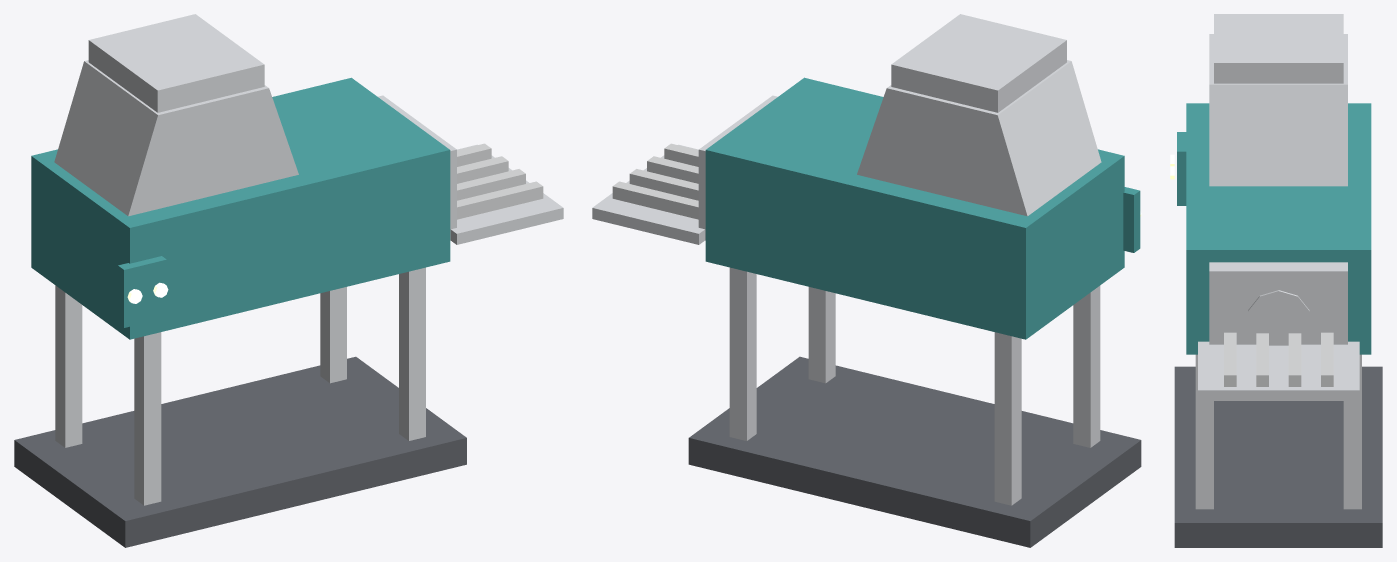
The model's file is chocolate-and-confectionery-factory-marshmallow-extrud-be0b4c50__36779.glb.
3 views of the same model, side by side, from view 1: azimuth 30°, elevation 25°; view 2: azimuth 150°, elevation 25°; view 3: azimuth 270°, elevation 25° (orthographic). The views are drawn at different scales.
Parts seen in each view (by area): view 1: marshmallow-extruder; view 2: marshmallow-extruder; view 3: marshmallow-extruder, roller-extrude/steel.
Boxes of the visible parts, x1,y1,x2,y2 form: marshmallow-extruder: [14, 14, 563, 547]; marshmallow-extruder: [592, 14, 1141, 547]; marshmallow-extruder: [1170, 14, 1382, 547]; roller-extrude/steel: [1248, 290, 1309, 345].
Bounding box in the file's own units: 2.11 × 1.92 × 0.92.
